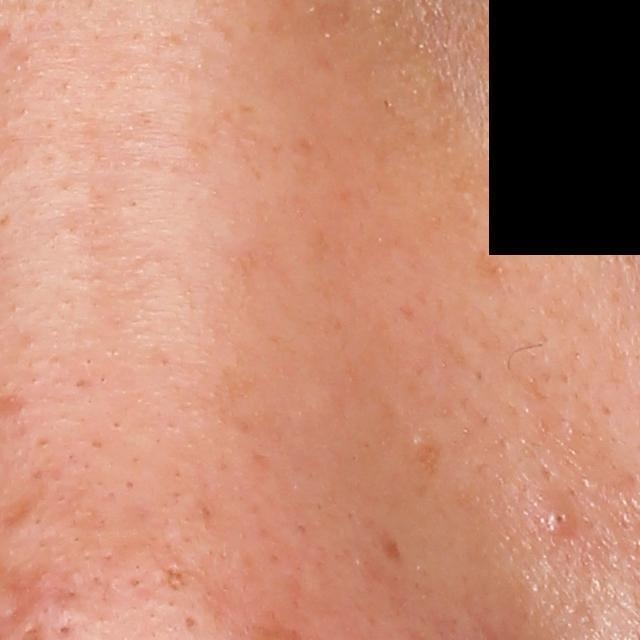comedo: (532, 495, 573, 544), (182, 615, 200, 634)
